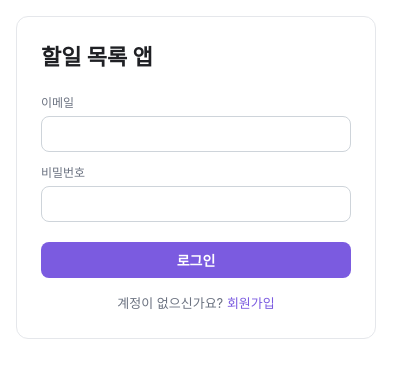
Scenario: LoginPage › 잘못된 이메일 형식 → 에러
In the field labelled "이메일": (196, 134) [41,116,351,152], type "abc"
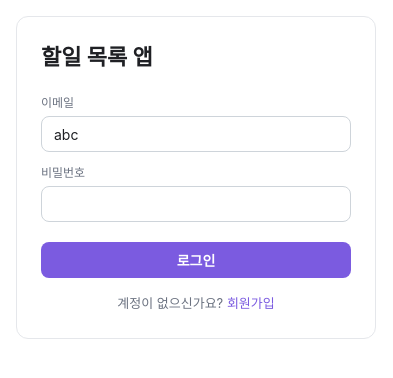
In the password field labelled "비밀번호": (196, 204) [41,186,351,222], type "12345678"
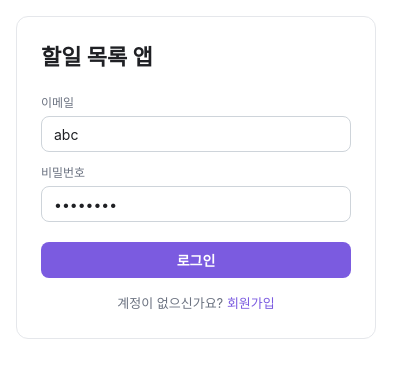
Click the button "로그인": click(196, 260) [41,242,351,278]
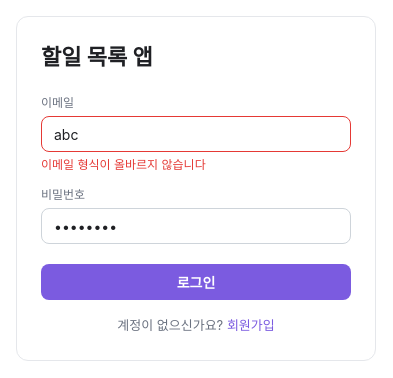
Now the text "이메일 형식이 올바르지 않습니다" is shown, box [41,157,206,172]
